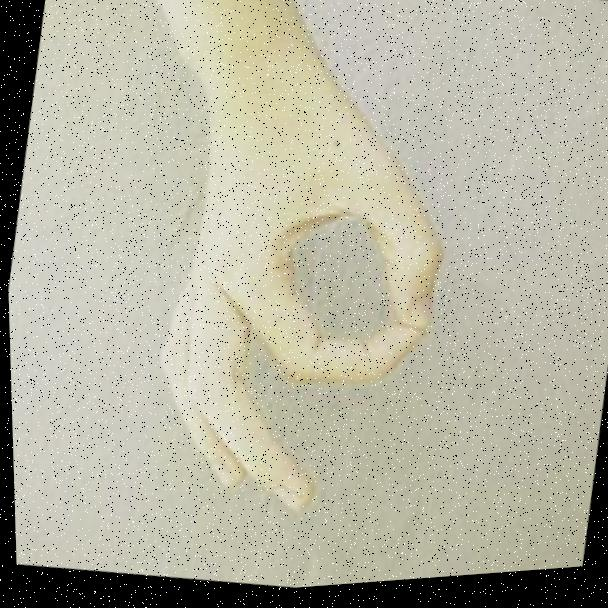five: (122, 60, 477, 546)
